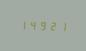four: (28, 19, 37, 30)
nine: (38, 19, 47, 31)
one: (18, 19, 27, 30), (58, 20, 67, 31)
two: (48, 20, 57, 31)
